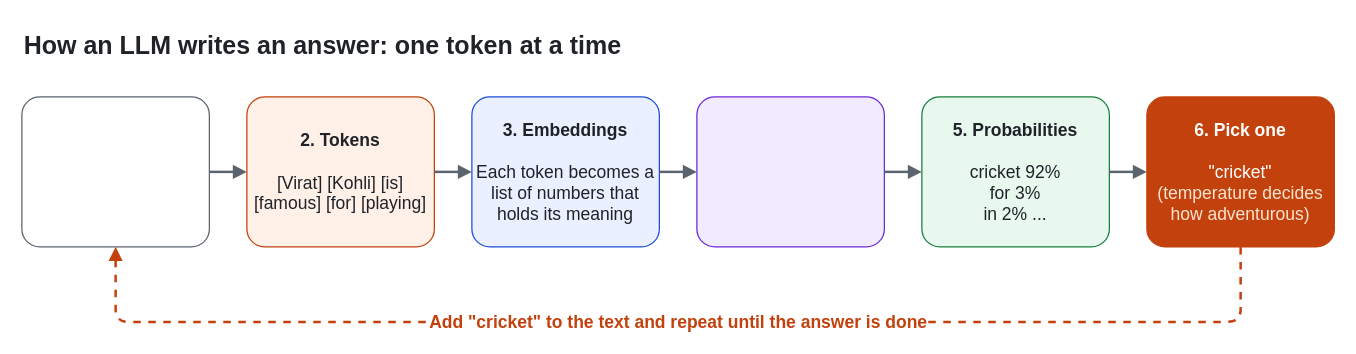
Some shapes in this 1356 by 354 pixel diagram are drawn without their labels. The centre of each missing label's shape, as x and y in pixels:
1. Your text "Virat Kohli is famous for playing": (x=115, y=171)
4. Transformer Attention: which words matter for each other: (x=790, y=171)
